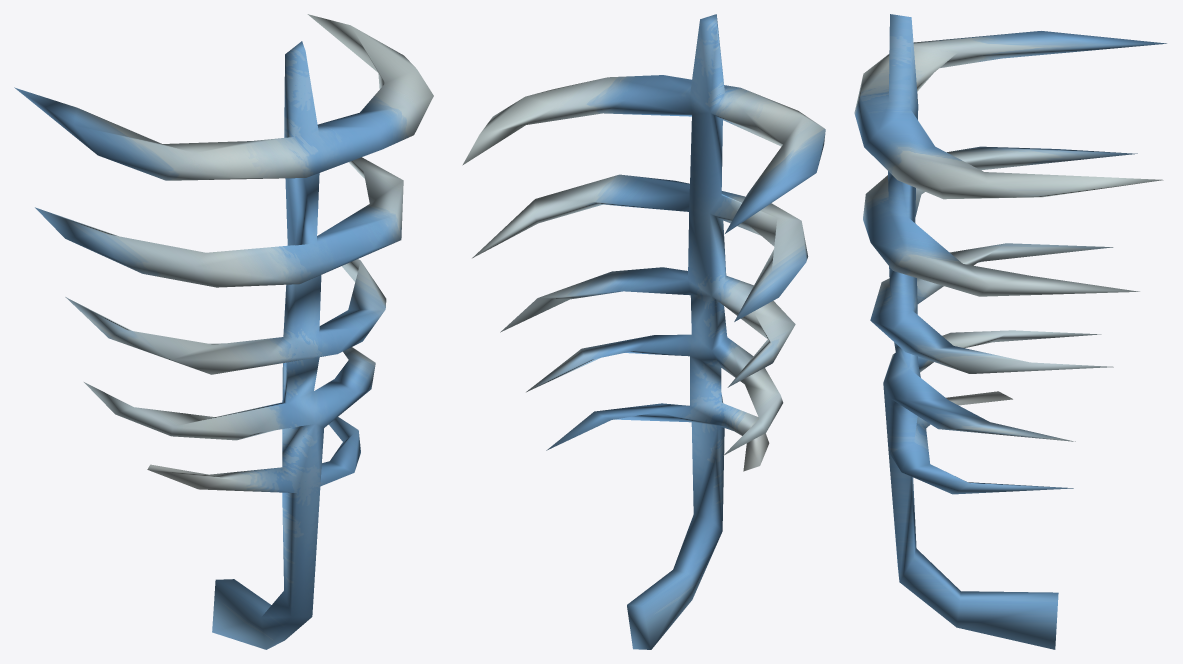
File: RIBS.fbx
3 renders of one model, left to right at view 1: azimuth 30°, elevation 25°; view 2: azimuth 150°, elevation 25°; view 3: azimuth 270°, elevation 25°, orthographic. The views are drawn at different scales.
Parts seen in each view (by area): view 1: ribs; view 2: ribs; view 3: ribs.
Part boxes in pixels (x1=…): ribs: x1=14, y1=14, x2=433, y2=649; ribs: x1=462, y1=14, x2=825, y2=649; ribs: x1=854, y1=14, x2=1166, y2=649.
Size of the model in its own units: 1085 by 2008 by 904.
